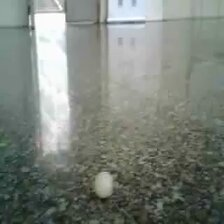w: (92, 169, 115, 200)
